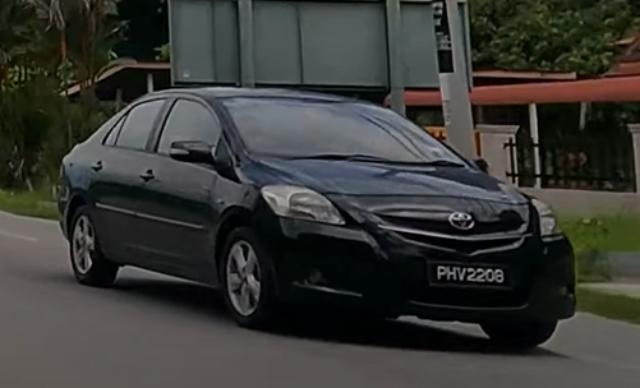License_Plate: (427, 260, 513, 291)
car: (56, 86, 578, 350)
